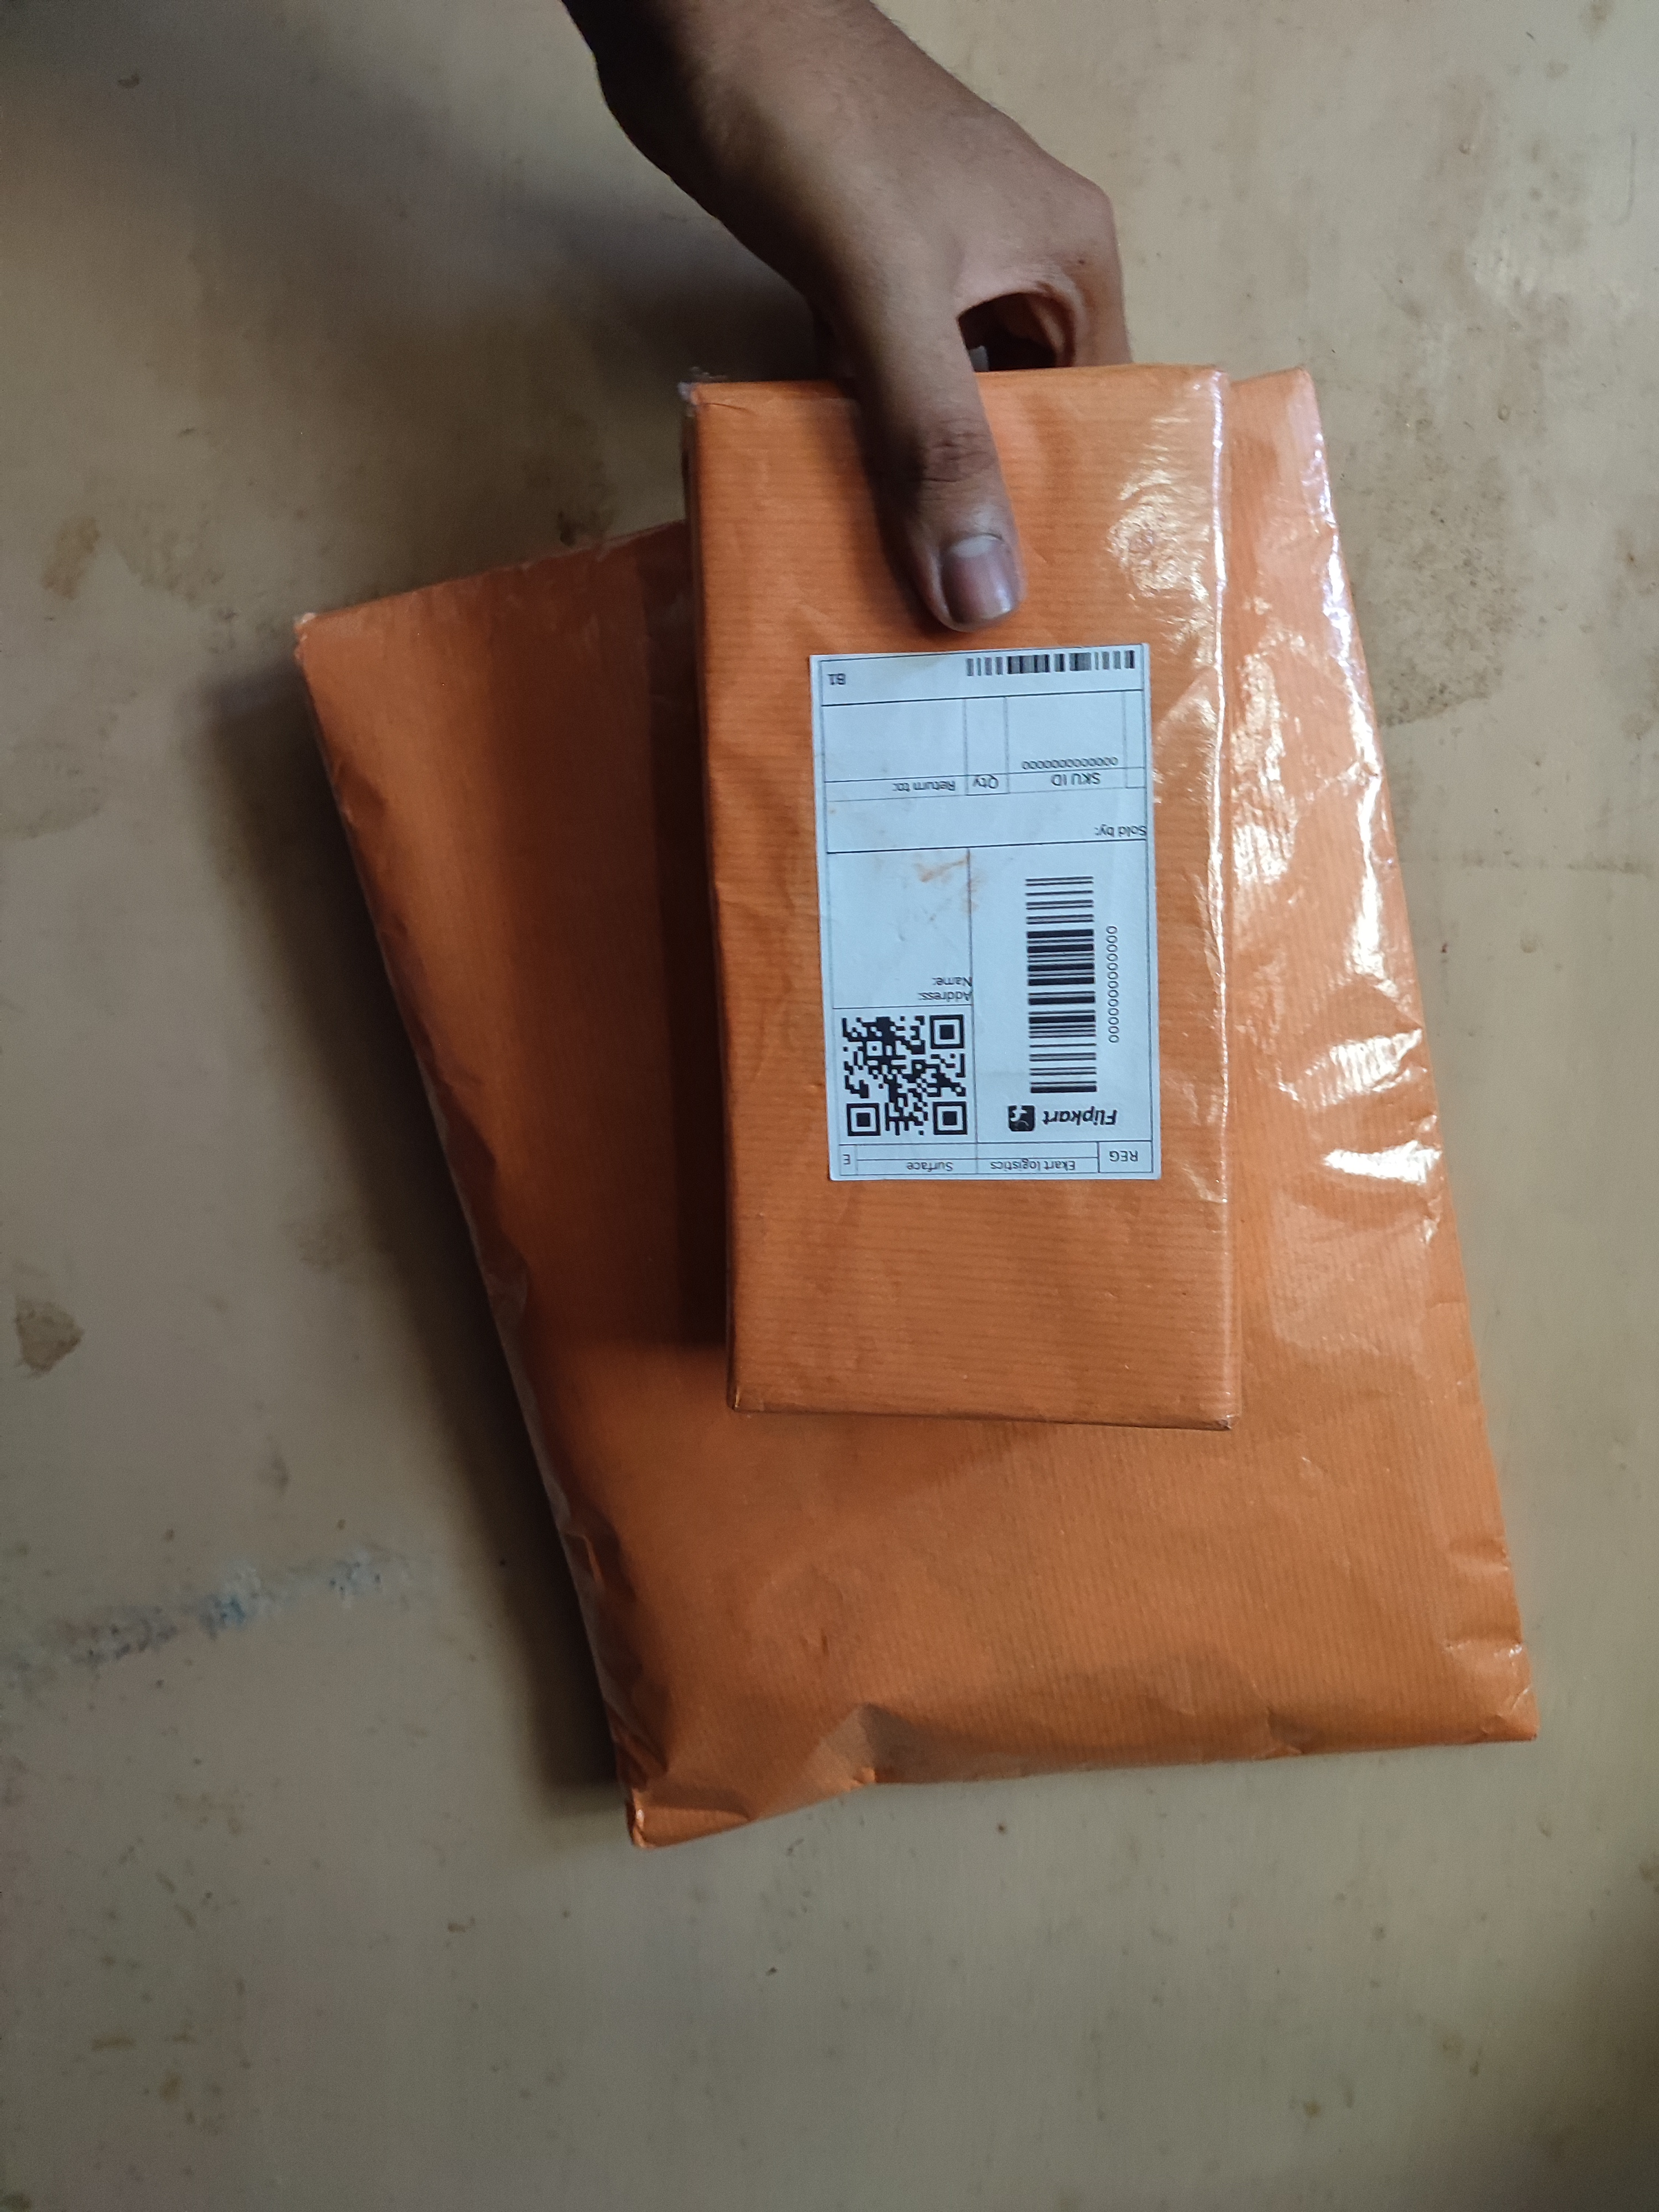Box: (364, 390, 1534, 1947), (652, 399, 1220, 1512)
